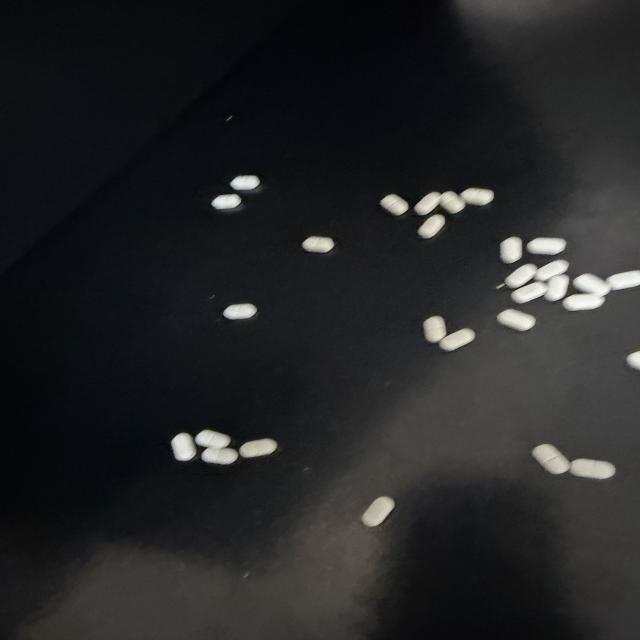pill: (532, 444, 570, 474), (362, 497, 394, 527), (570, 459, 615, 479), (497, 309, 535, 331), (573, 274, 611, 296), (439, 329, 475, 351), (505, 264, 537, 288), (511, 282, 547, 303), (171, 433, 197, 461), (563, 294, 604, 311), (535, 260, 568, 281), (239, 439, 277, 457), (418, 214, 445, 238), (195, 430, 230, 448), (527, 238, 566, 254), (545, 275, 569, 301), (607, 271, 639, 290), (414, 192, 440, 215), (424, 316, 446, 343), (201, 448, 238, 464), (380, 194, 408, 215), (460, 188, 494, 205), (500, 237, 522, 263), (439, 191, 465, 213), (223, 303, 257, 319), (302, 237, 334, 253), (230, 175, 260, 190), (212, 194, 241, 209), (626, 351, 639, 370)
